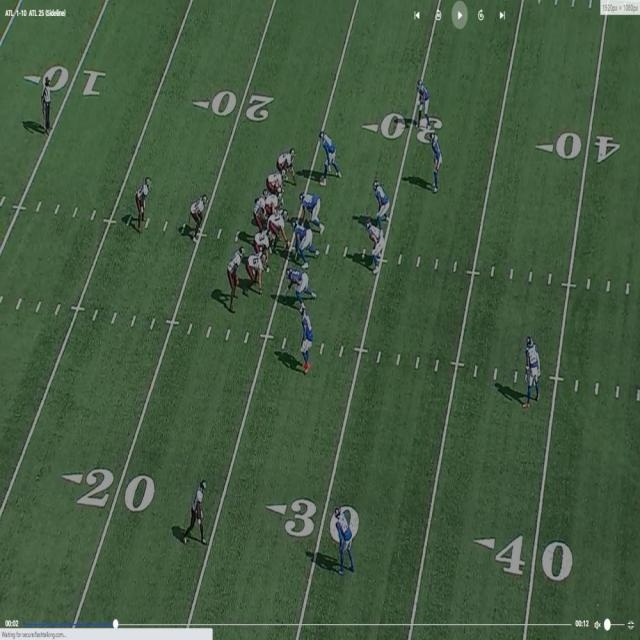center: (268, 210, 291, 250)
db: (331, 515, 352, 574), (524, 340, 540, 410), (429, 133, 441, 188), (301, 305, 311, 364), (418, 79, 432, 116)
lb: (367, 221, 386, 274), (375, 182, 392, 228)
qb: (254, 187, 268, 223)
skill: (188, 478, 205, 544), (134, 178, 151, 232), (230, 250, 244, 308), (187, 196, 205, 233), (277, 143, 293, 167)
